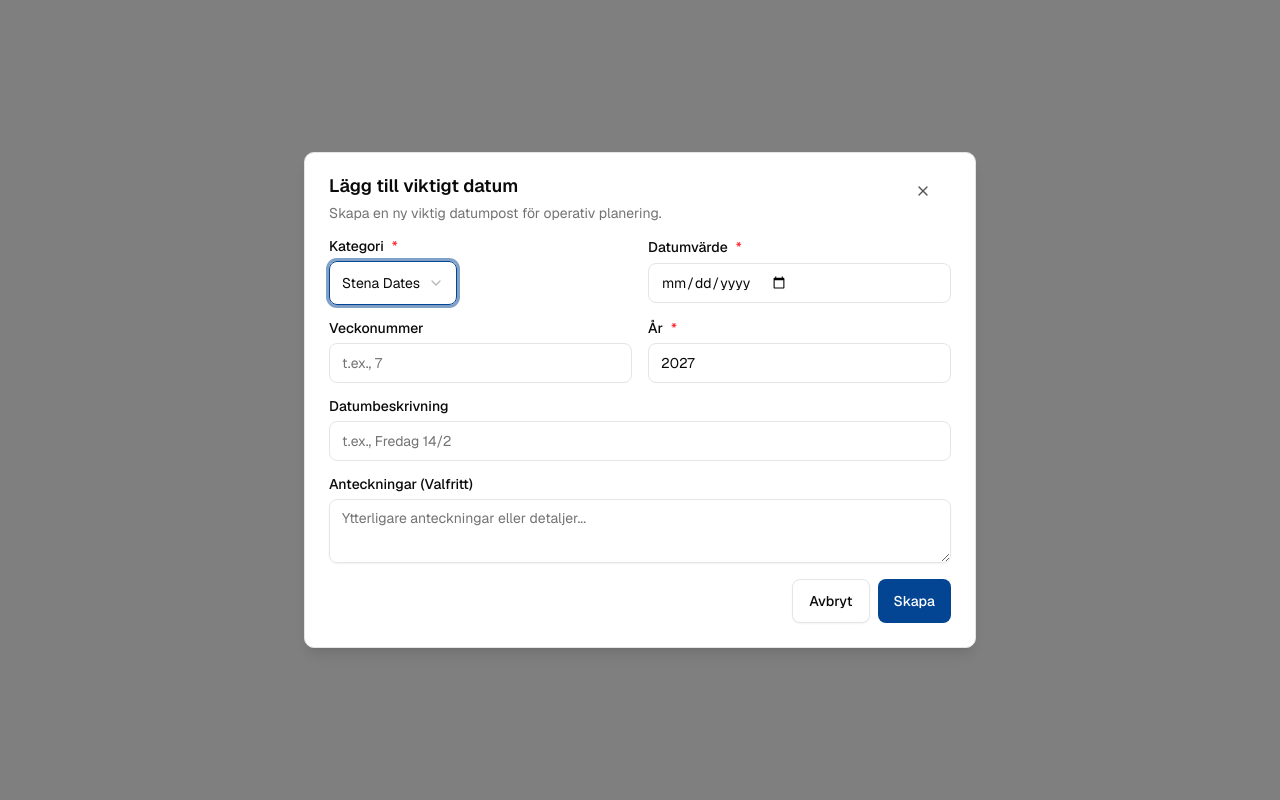
Test: PE3 Auto-Description Population › AC2: PE3 Auto-Description Population Tests › should update description when date changes for PE3
This screenshot has width=1280, height=800.
Note: Select PE3 category
Click the dropdown named "kategori".
click(393, 283)  # box left=329, top=261, right=457, bottom=305
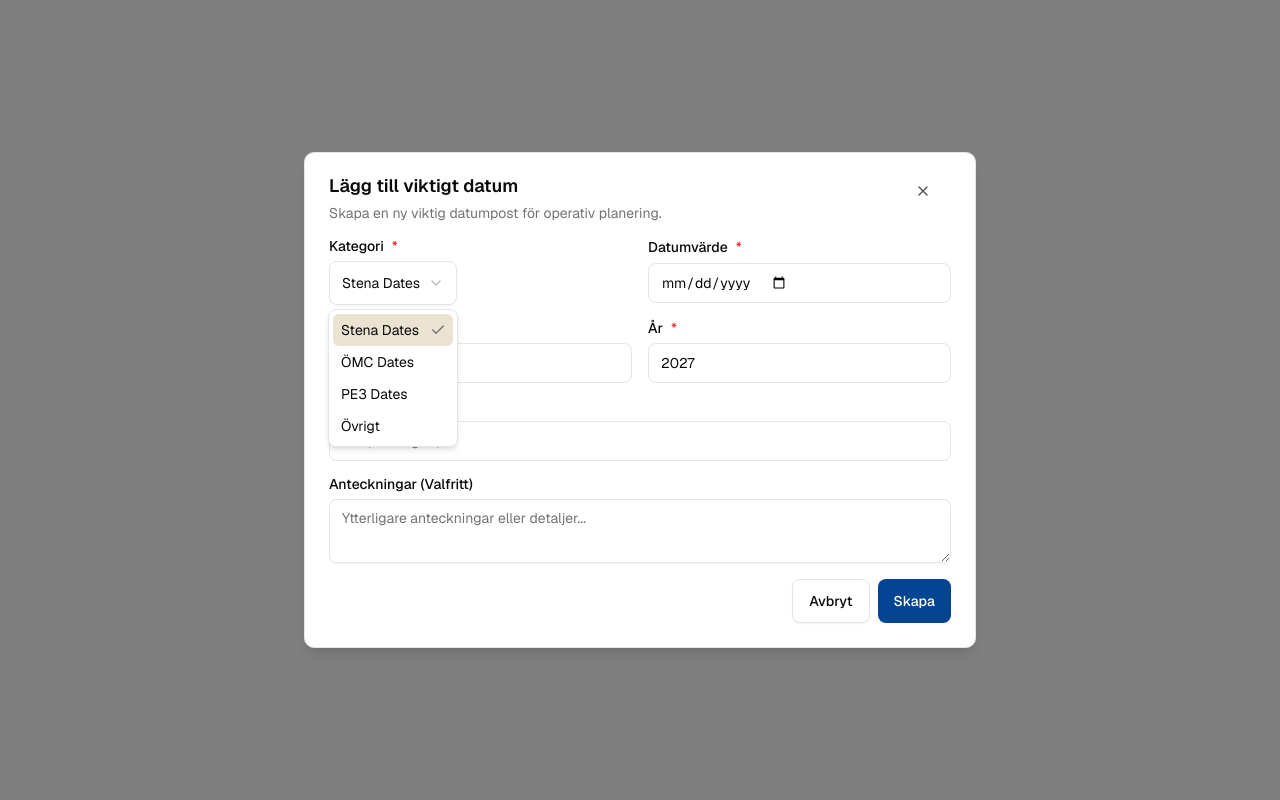
Click the option "PE3 Dates".
click(374, 394)  # box left=341, top=385, right=408, bottom=403
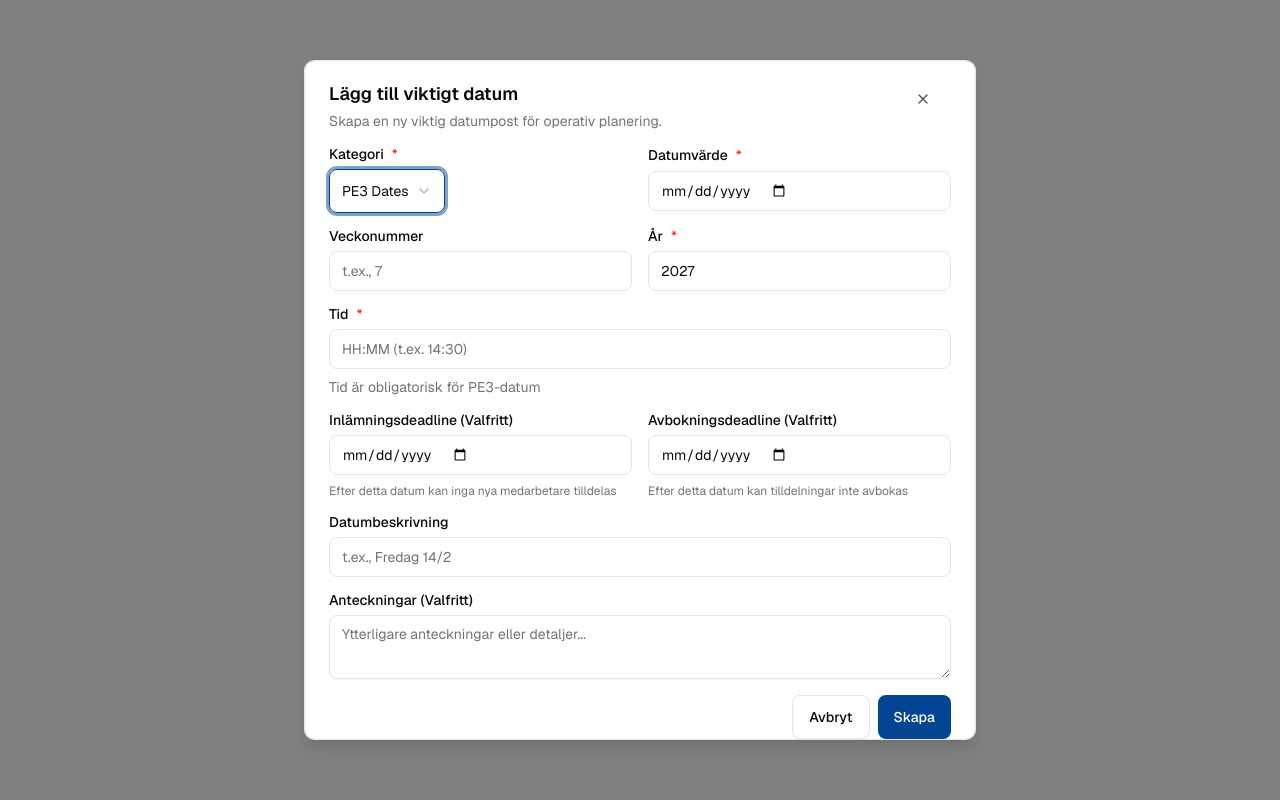
Note: Set initial date and time
Type "2025-03-15" into the date field labelled "Datumvärde *".
click(800, 191); type("2025-03-15")  # box left=648, top=171, right=951, bottom=211
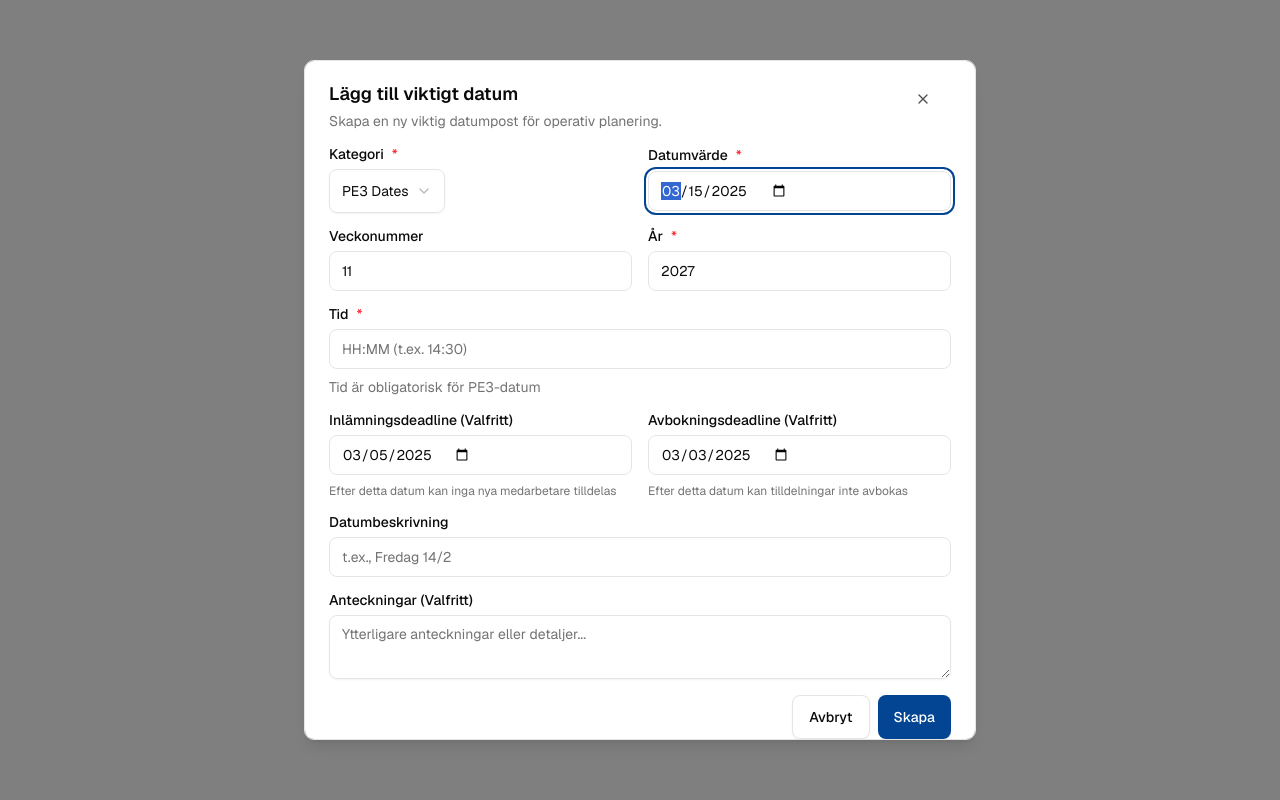
Type "14:30" into the field labelled "Tid *".
click(640, 349); type("14:30")  # box left=329, top=329, right=951, bottom=369
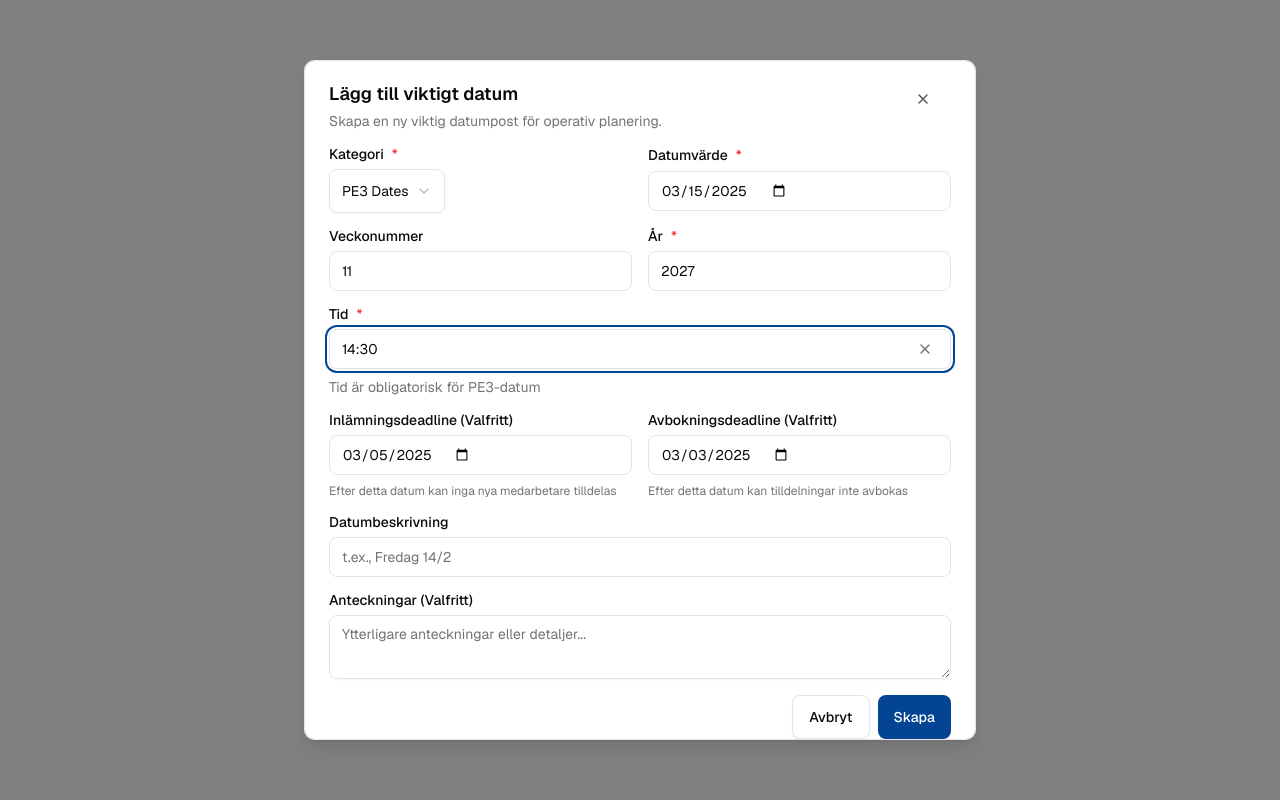
Press Tab
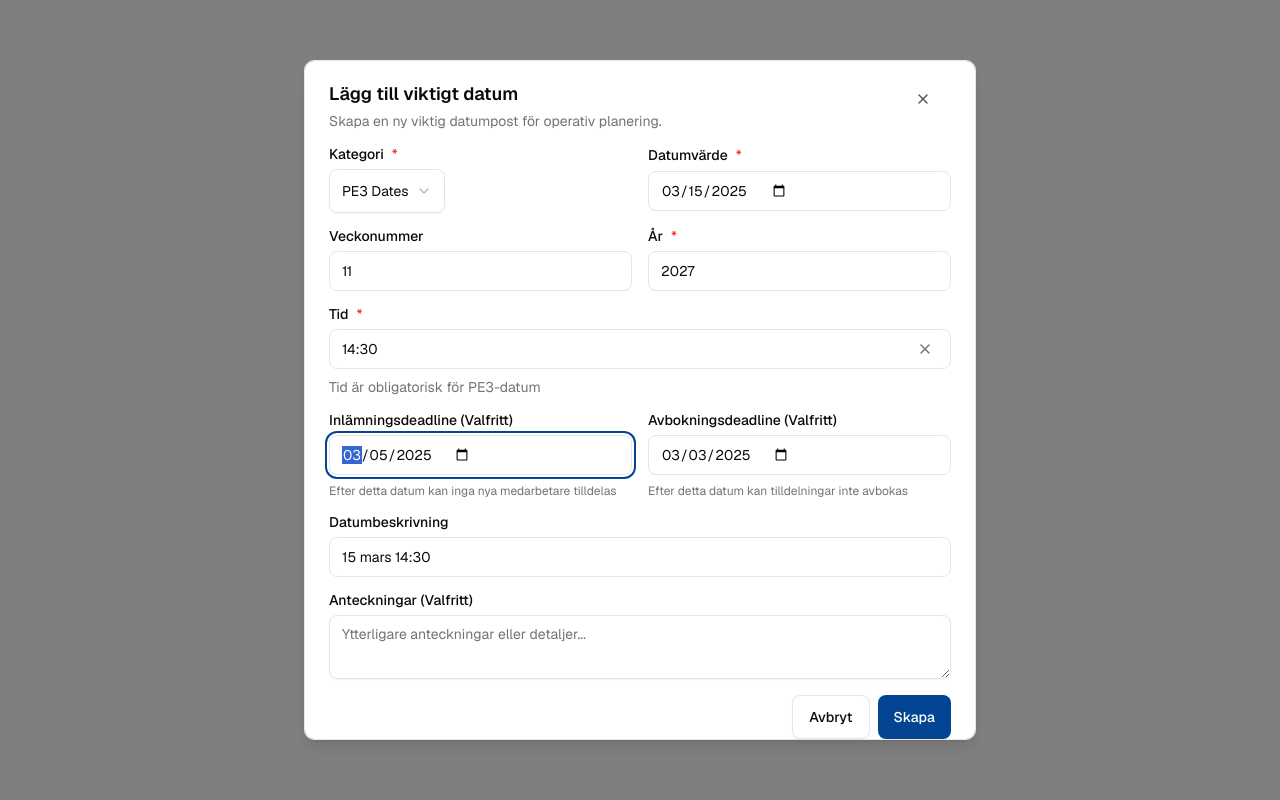
Expected: the field labelled "Datumbeskrivning" holds "15 mars 14:30", left=329, top=537, right=951, bottom=577
Note: Change date
Type "2025-04-20" into the date field labelled "Datumvärde *".
click(800, 191); type("2025-04-20")  # box left=648, top=171, right=951, bottom=211
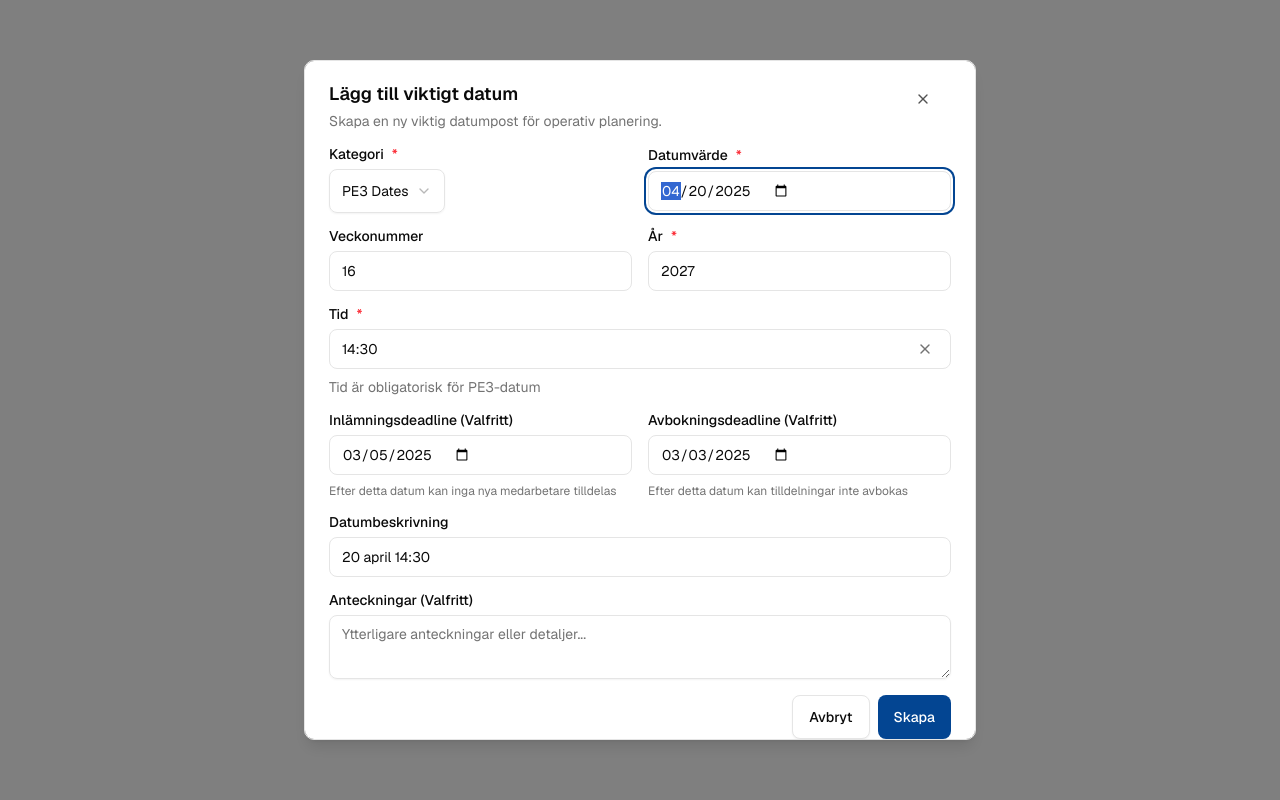
Expected: the field labelled "Datumbeskrivning" holds "20 april 14:30", left=329, top=537, right=951, bottom=577
